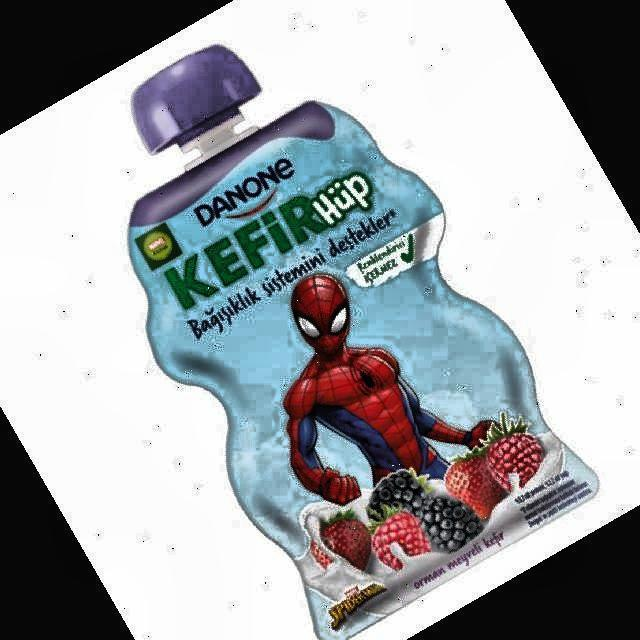plastic: (129, 45, 598, 639)
